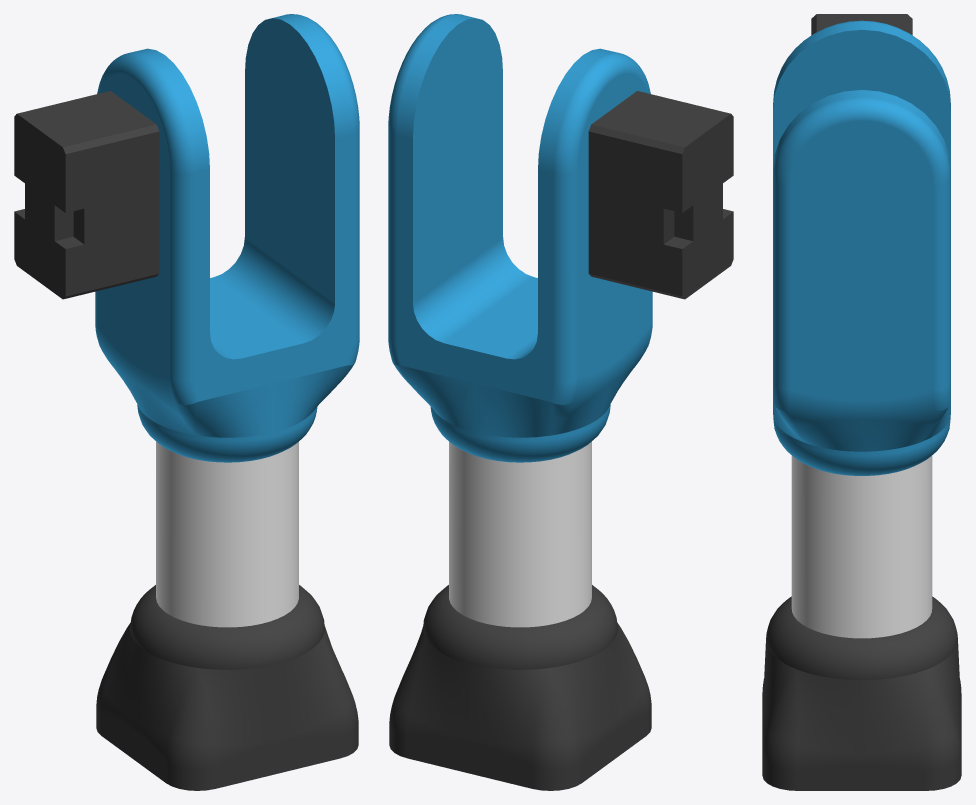
File: forearm_link.dae
3 views of the same model, side by side, from view 1: azimuth 30°, elevation 25°; view 2: azimuth 150°, elevation 25°; view 3: azimuth 270°, elevation 25° (orthographic).
Visible parts, largest first — view 1: _3DGeom-97, _3DGeom-98, _3DGeom-96; view 2: _3DGeom-97, _3DGeom-98, _3DGeom-96; view 3: _3DGeom-97, _3DGeom-98, _3DGeom-96.
Boxes of the visible parts, x1,y1,x2,y2 form: _3DGeom-97: (95, 14, 359, 462); _3DGeom-98: (14, 91, 358, 790); _3DGeom-96: (156, 441, 298, 627); _3DGeom-97: (388, 14, 652, 462); _3DGeom-98: (389, 91, 733, 790); _3DGeom-96: (449, 441, 591, 627); _3DGeom-97: (773, 20, 950, 475); _3DGeom-98: (762, 14, 961, 790); _3DGeom-96: (791, 455, 932, 638).
Bounding box in the file's own units: 0.09 × 0.056 × 0.213.
